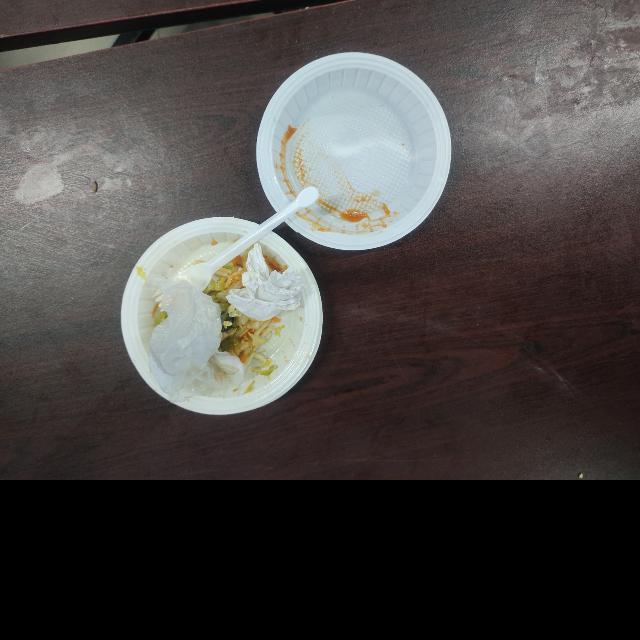kitchen paper: (226, 252, 306, 320)
